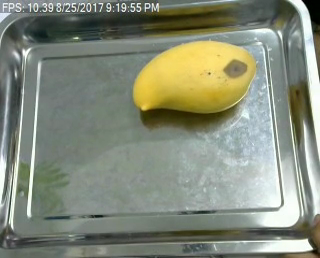Mango: (133, 35, 257, 116)
